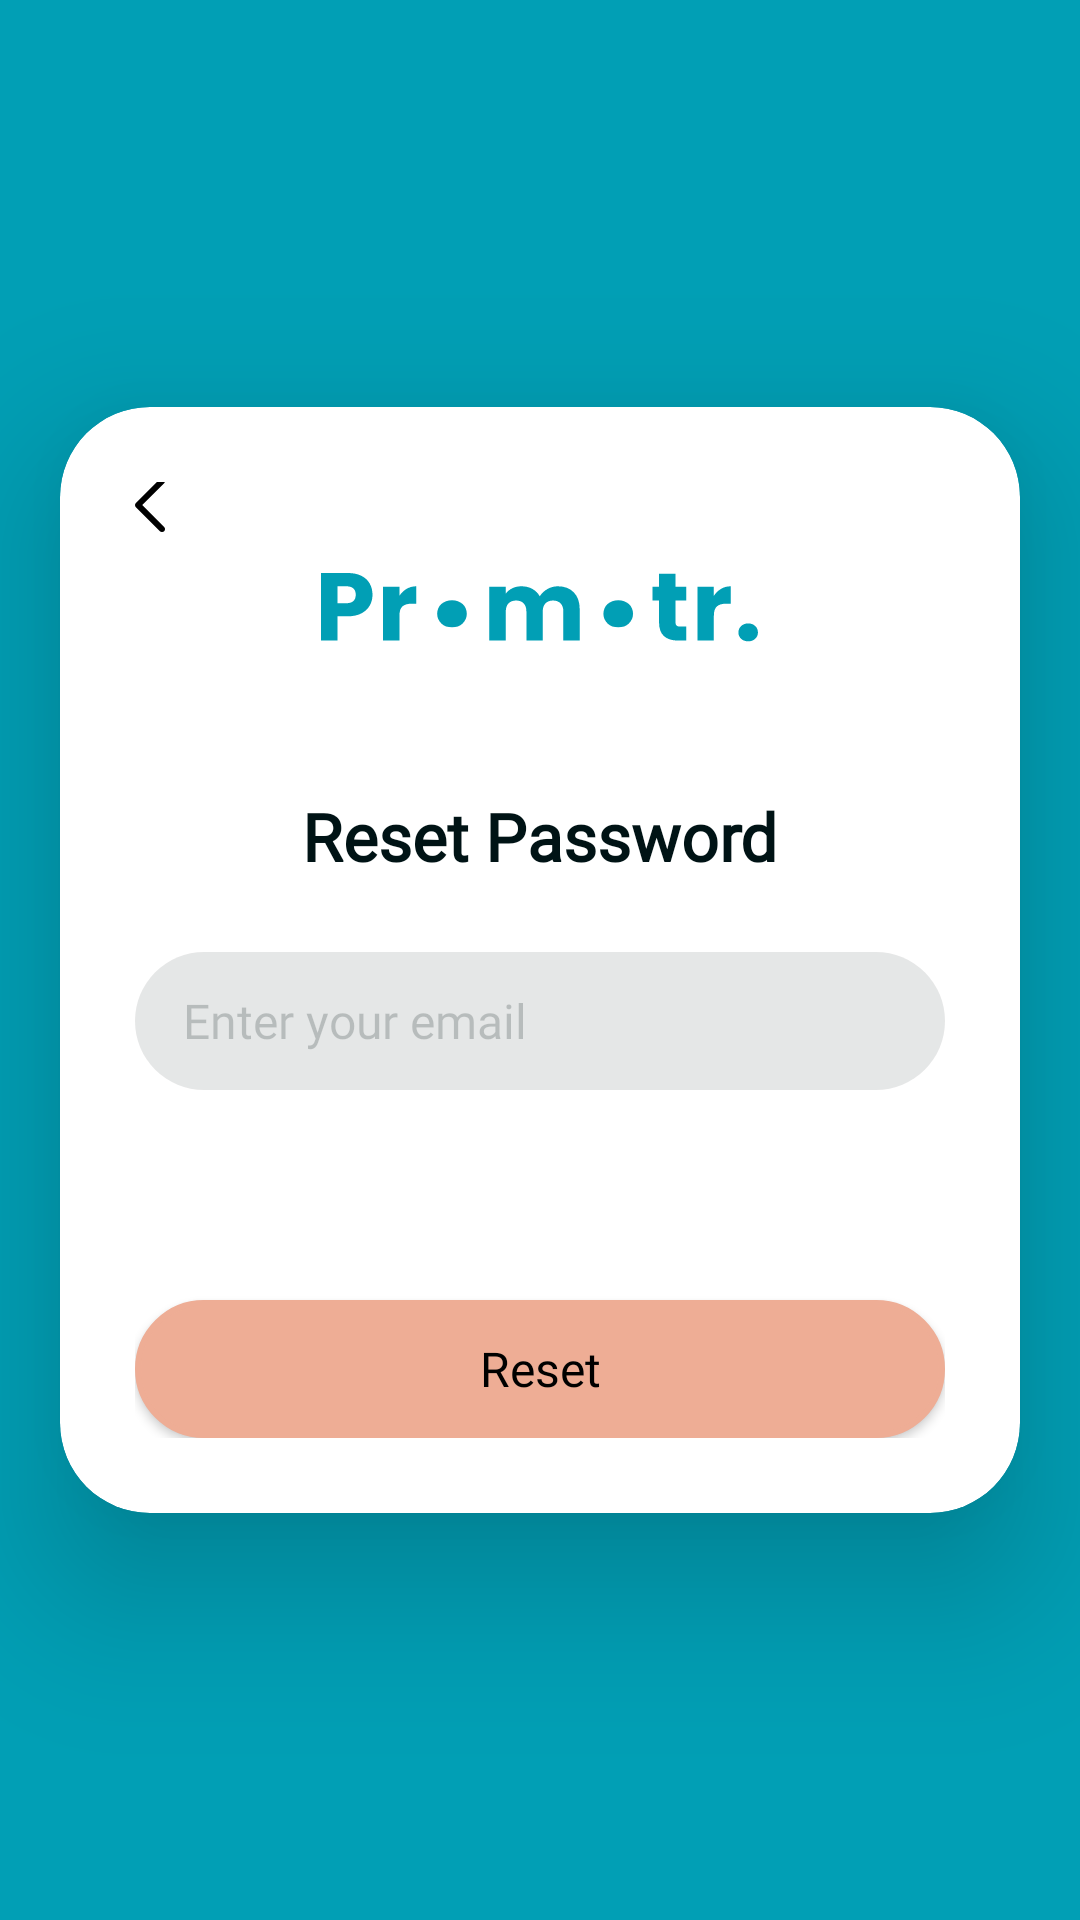

Where icons sit on this 1080x1920 app screen, as (x1, y1, x2, y2):
back arrow: (135, 482, 165, 532)
